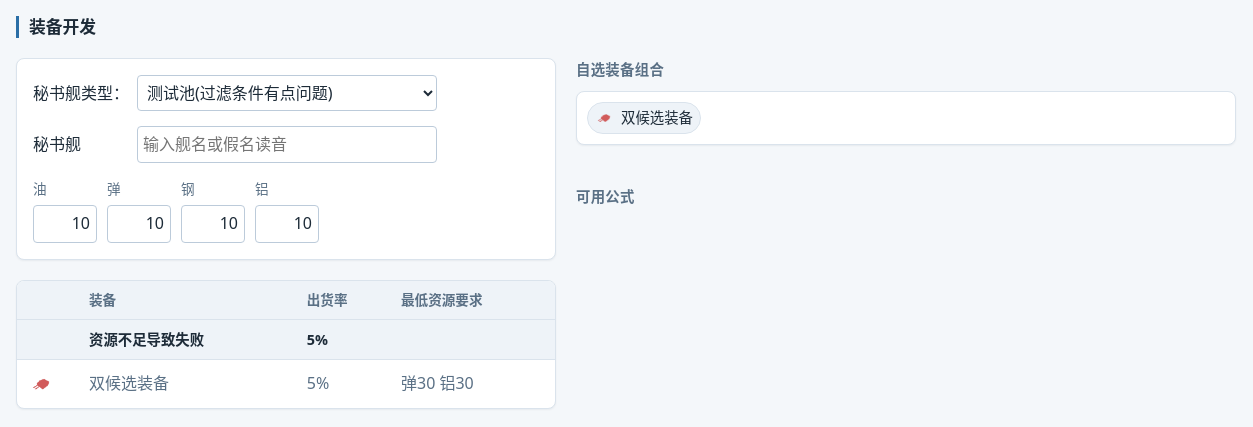
Test case: DevelopmentView — 「可用公式」的选中语义 › 自动应用第一条公式后，第一行处于选中态
Click the button "双候选装备" at (644, 118), box [587,102,701,134]
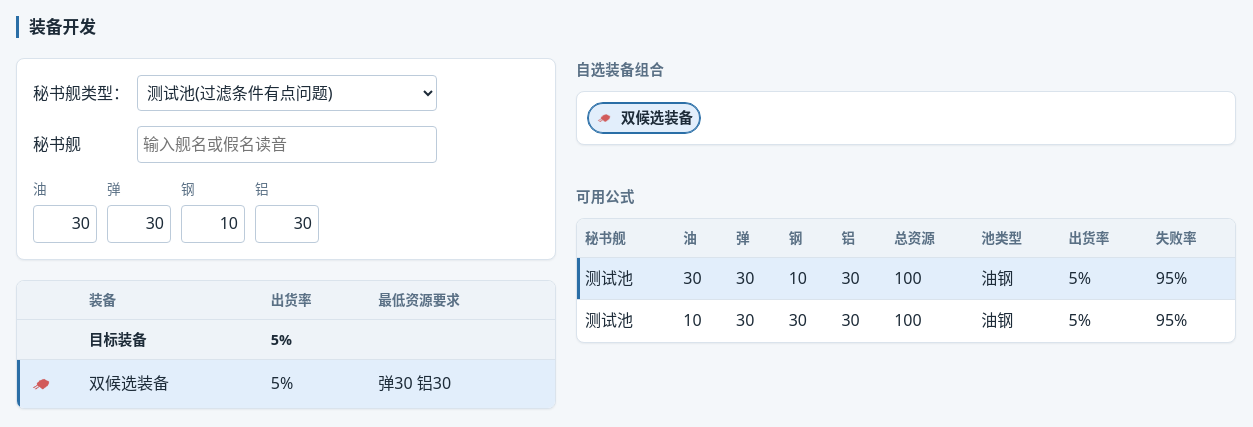
Result: the field with id "fuel" holds "30" at [33,205,97,243]
Result: the 1st cell "油钢" is shown at [973,257,1060,300]
Result: the 2nd cell "油钢" is shown at [973,300,1060,342]
